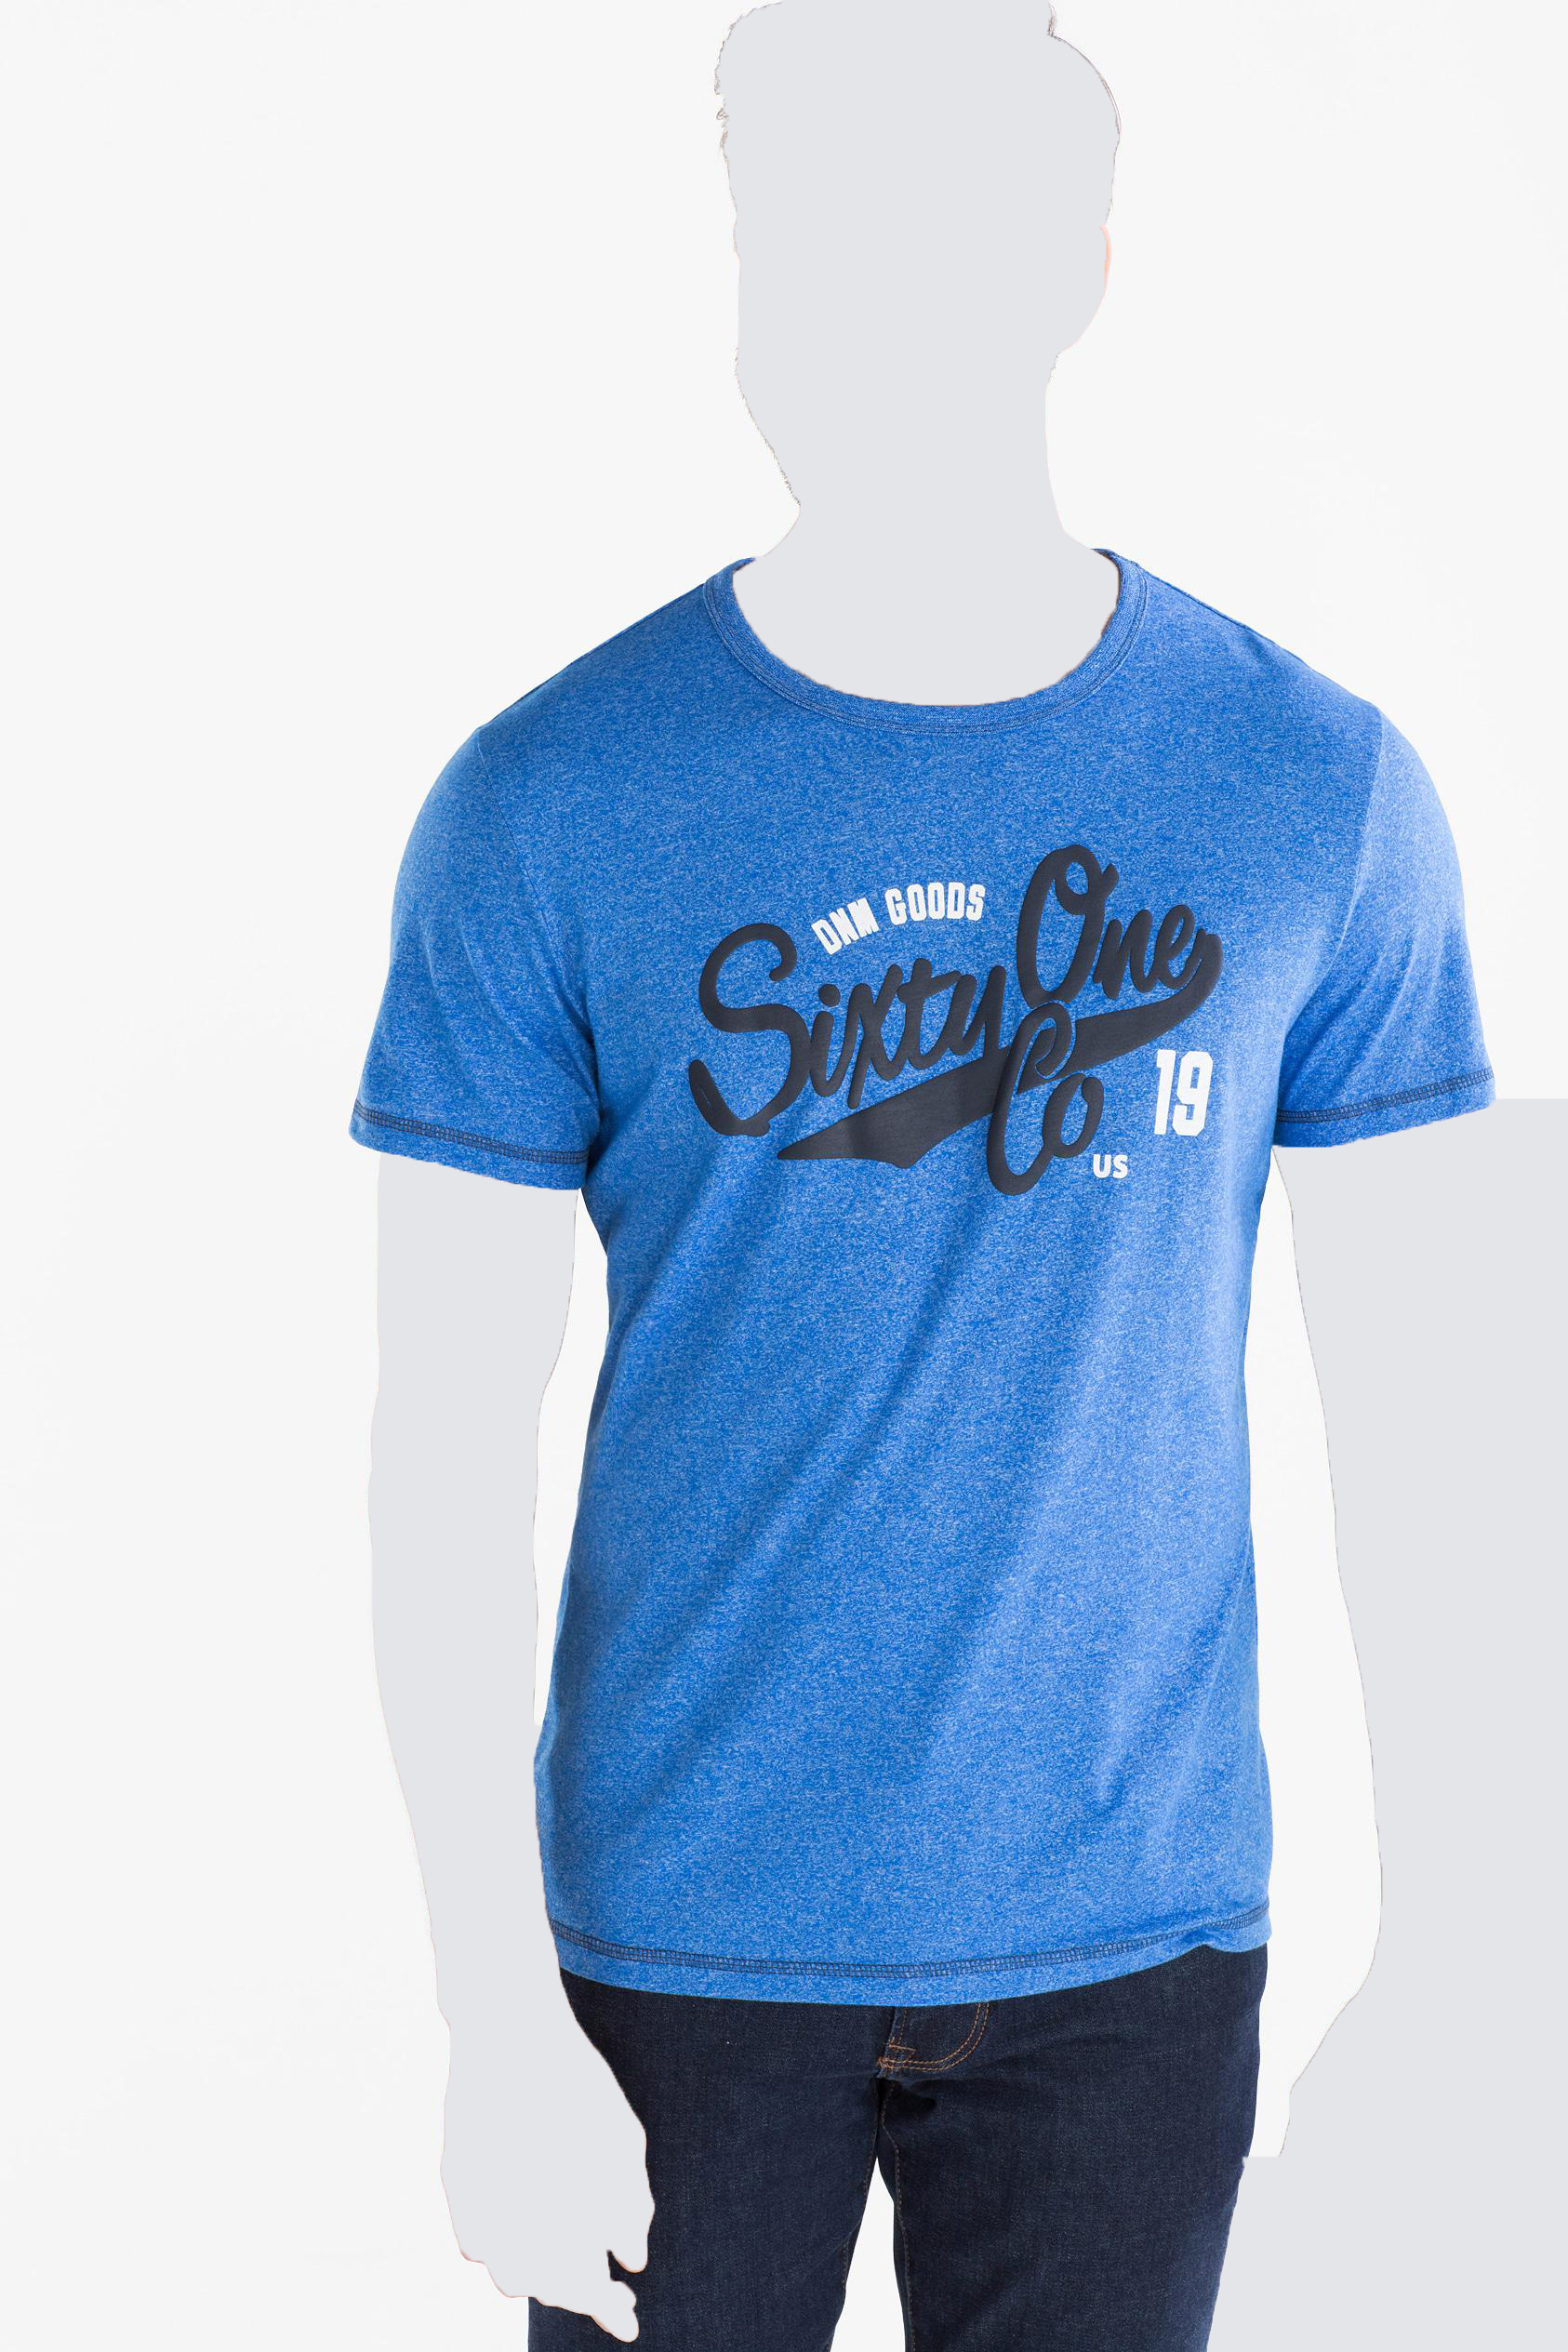teeshirt: (320, 539, 1507, 1988)
